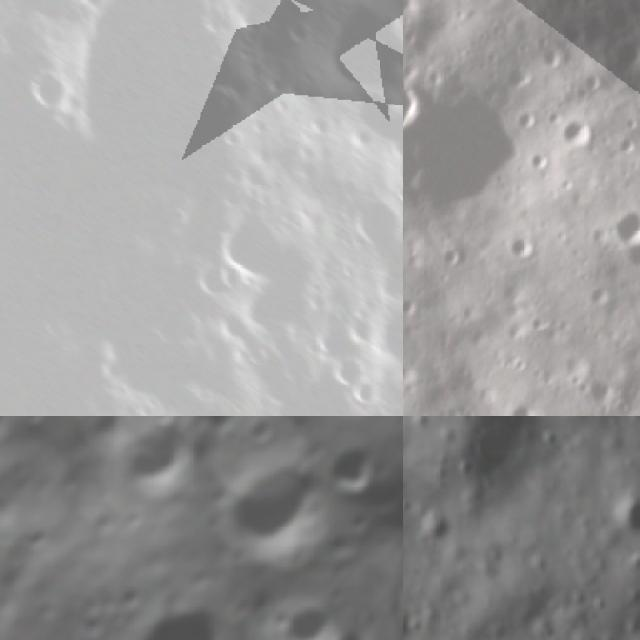crater: (403, 87, 551, 219), (214, 447, 333, 567), (305, 0, 403, 100), (115, 416, 213, 508), (218, 209, 300, 288), (457, 416, 535, 495), (122, 596, 238, 640), (327, 441, 392, 506), (340, 187, 403, 253), (19, 59, 82, 116), (303, 314, 378, 360), (279, 590, 347, 640), (239, 416, 288, 458), (324, 352, 376, 389), (555, 116, 600, 156), (17, 520, 58, 560), (403, 76, 428, 133), (610, 203, 640, 248), (613, 491, 640, 540), (112, 579, 149, 614), (348, 378, 385, 408), (611, 36, 640, 73), (499, 233, 536, 262), (583, 374, 618, 404), (16, 416, 61, 438), (65, 0, 114, 16), (443, 242, 468, 267), (620, 238, 640, 269), (403, 0, 425, 25), (509, 404, 543, 416)
